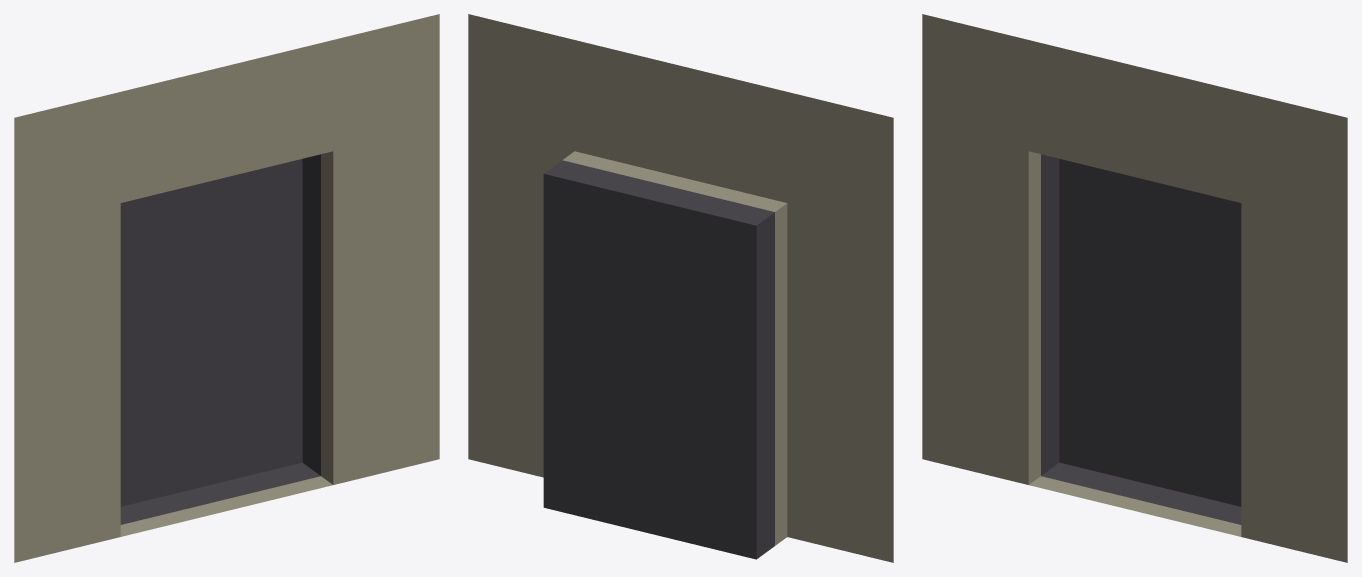
File: S_b_door_02.fbx
The picture shows the model from 3 angles, left to right: view 1: azimuth 30°, elevation 25°; view 2: azimuth 150°, elevation 25°; view 3: azimuth 330°, elevation 25°; orthographic projection.
Parts seen in each view (by area): view 1: b_door2; view 2: b_door2; view 3: b_door2.
Boxes of the visible parts, <box> form: b_door2: <box>14,14,439,562</box>; b_door2: <box>468,14,893,562</box>; b_door2: <box>922,14,1347,562</box>.
Size of the model in its own units: 300 by 300 by 37.66.
